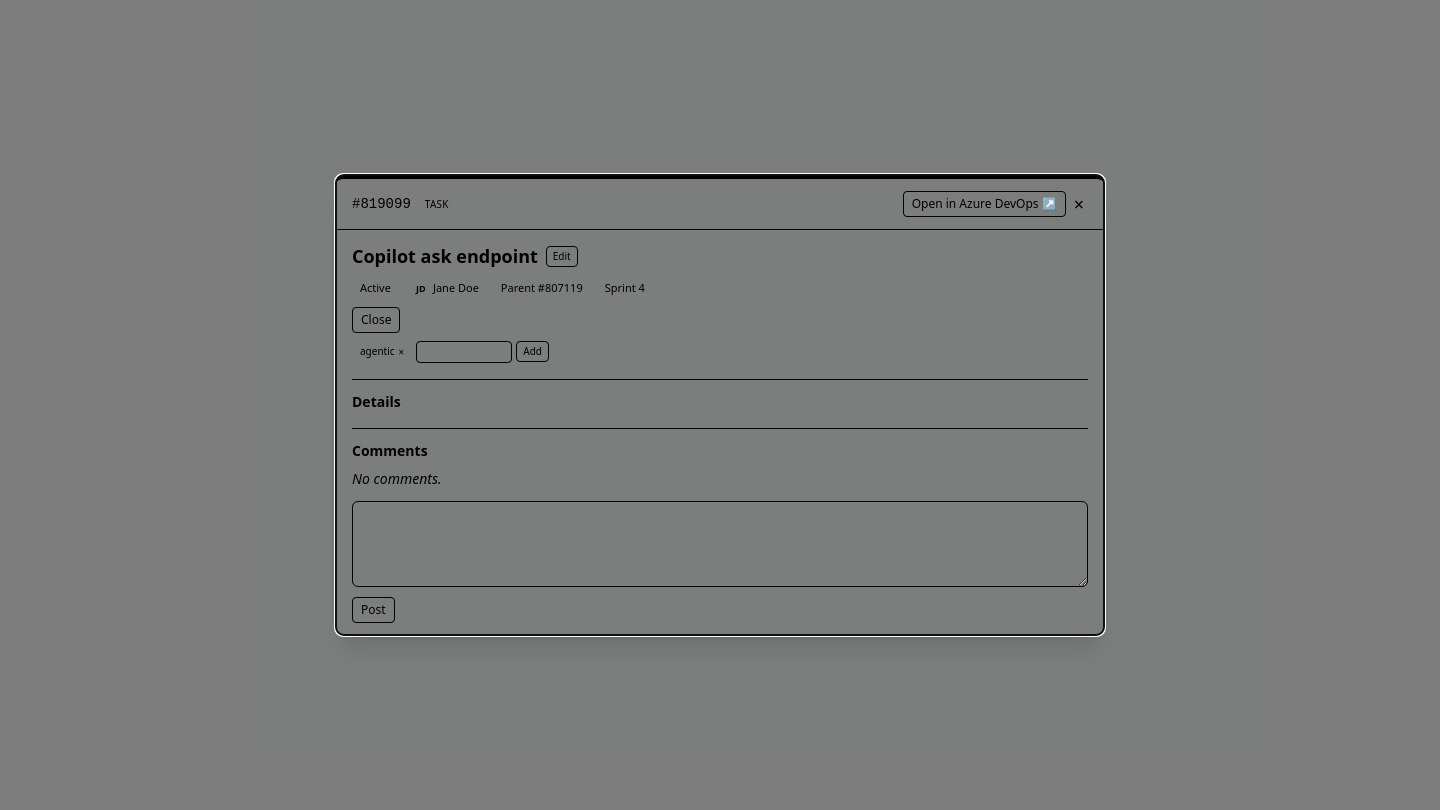
Scenario: TicketModal › Comments section › posting a comment › shows an error message when posting fails
This screenshot has width=1440, height=810.
Type "the text" into the text box named "Add a comment". click: (720, 544)
box: [352, 501, 1088, 587]
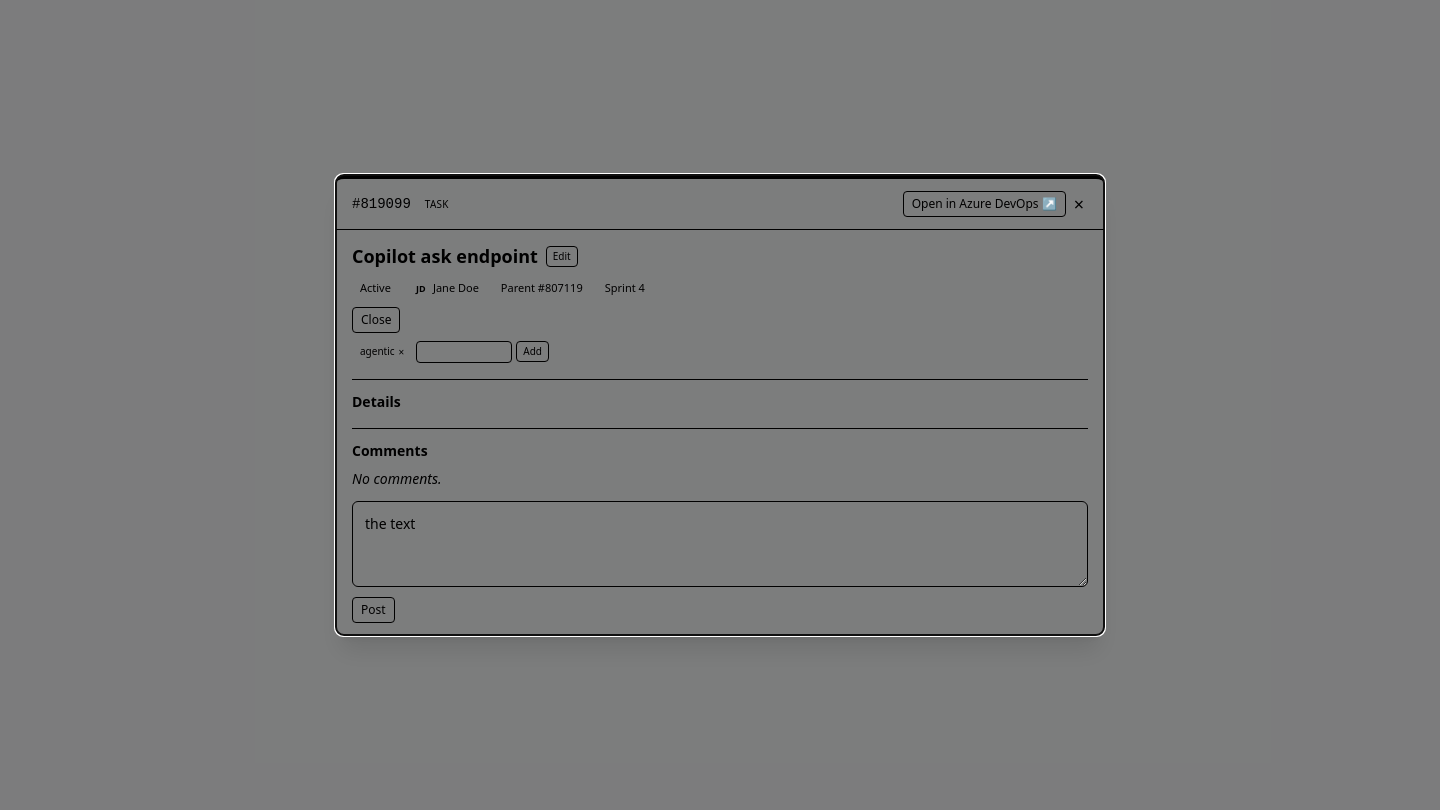
Click the button with aria-label "Post comment". click: (373, 610)
box: [352, 597, 395, 623]
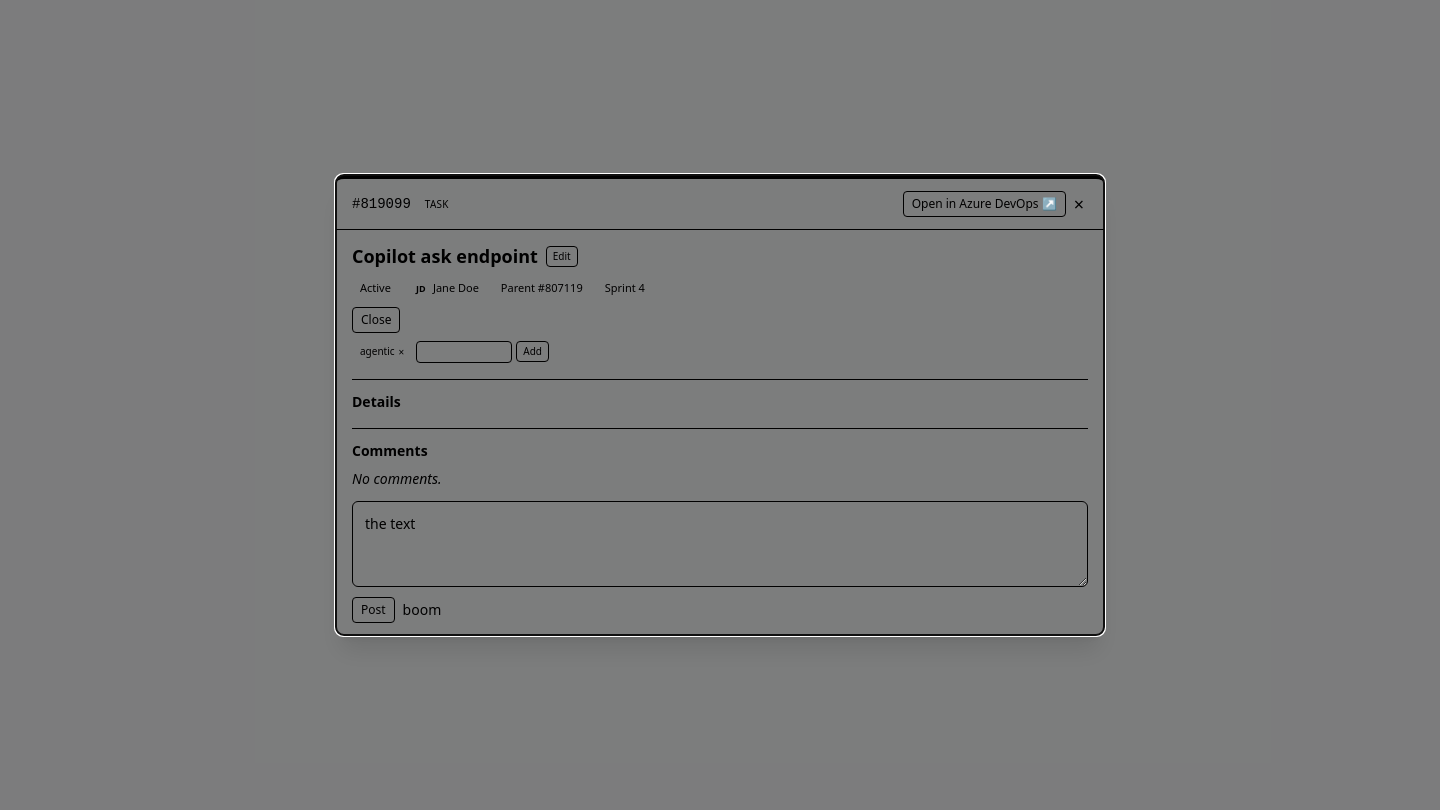
Now the message reads "boom", box [403, 600, 441, 619]
